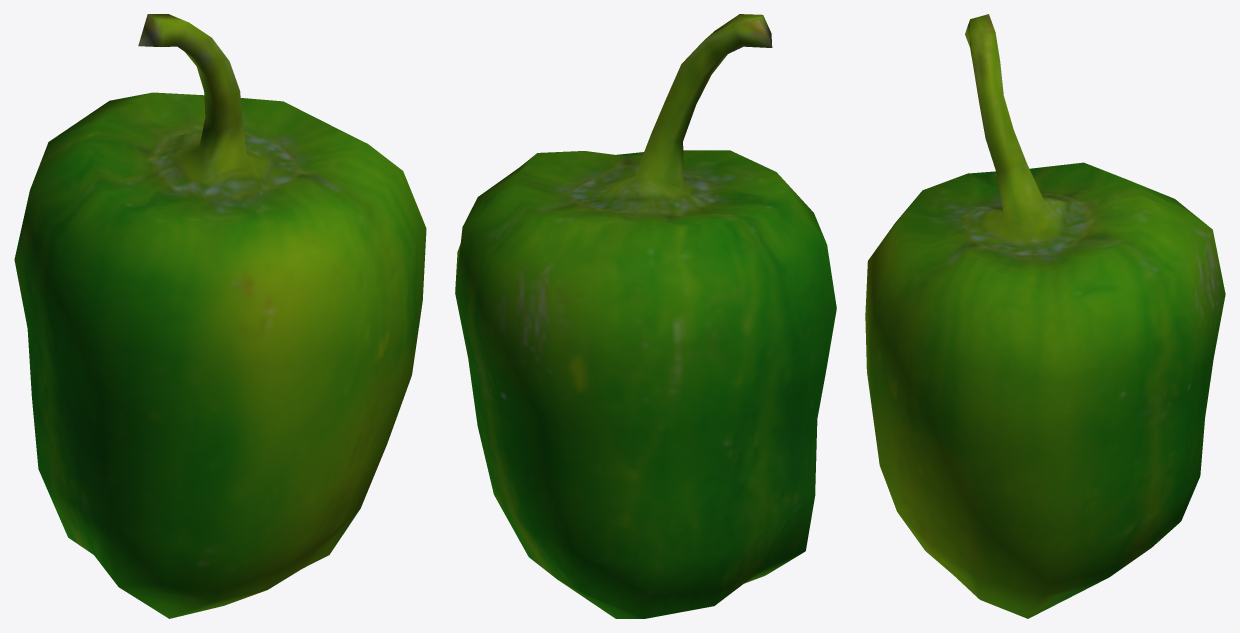
File: Prop_Vegetables_Pepper_x2.fbx
3 views of the same model, side by side, from view 1: azimuth 30°, elevation 25°; view 2: azimuth 150°, elevation 25°; view 3: azimuth 270°, elevation 25° (orthographic). The views are drawn at different scales.
Visible parts, largest first — view 1: Prop_Vegetables_Pepper_x2; view 2: Prop_Vegetables_Pepper_x2; view 3: Prop_Vegetables_Pepper_x2.
Boxes of the visible parts, x1,y1,x2,y2 form: Prop_Vegetables_Pepper_x2: (14,14,426,618); Prop_Vegetables_Pepper_x2: (455,14,836,618); Prop_Vegetables_Pepper_x2: (865,14,1225,618).
Bounding box in the file's own units: 4.75 × 7.91 × 4.85.
